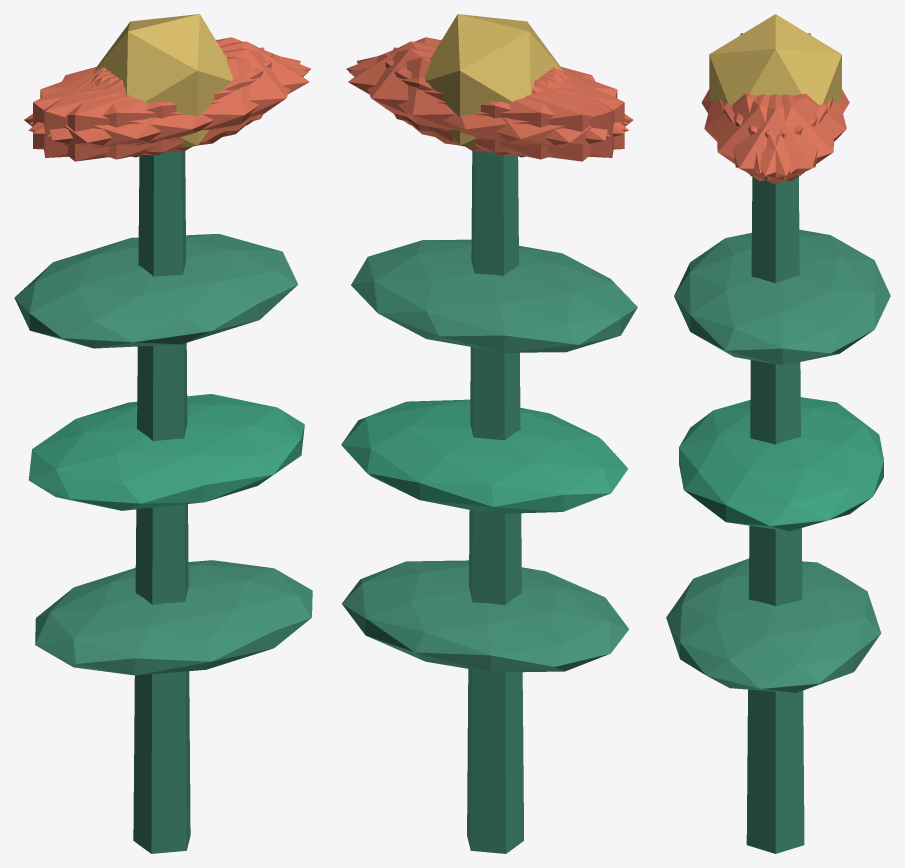
File: spathodea-campanulata.glb
The picture shows the model from 3 angles, left to right: view 1: azimuth 30°, elevation 25°; view 2: azimuth 150°, elevation 25°; view 3: azimuth 270°, elevation 25°; orthographic projection.
Parts seen in each view (by area): view 1: stem, leaf2, leaf0, leaf1, center, petal1, petal6, petal2, petal5, petal7, petal0, petal4 (+2 smaller); view 2: stem, leaf2, leaf1, leaf0, center, petal8, petal3, petal7, petal4, petal2, petal0, petal5 (+2 smaller); view 3: stem, leaf2, leaf0, leaf1, center, petal0, petal4, petal5, petal1, petal8.
Part boxes in pixels (x1=…): stem: x1=133, y1=151, x2=190, y2=853; leaf2: x1=14, y1=233, x2=298, y2=348; leaf0: x1=35, y1=560, x2=312, y2=675; leaf1: x1=28, y1=394, x2=304, y2=510; center: x1=95, y1=14, x2=232, y2=148; petal1: x1=28, y1=56, x2=308, y2=159; petal6: x1=24, y1=69, x2=226, y2=161; petal2: x1=43, y1=47, x2=264, y2=157; petal5: x1=47, y1=48, x2=300, y2=152; petal7: x1=33, y1=53, x2=272, y2=155; petal0: x1=94, y1=41, x2=309, y2=142; petal4: x1=29, y1=37, x2=311, y2=133; stem: x1=467, y1=151, x2=523, y2=853; leaf2: x1=351, y1=239, x2=637, y2=352; leaf1: x1=341, y1=399, x2=628, y2=513; leaf0: x1=342, y1=560, x2=628, y2=672; center: x1=424, y1=14, x2=562, y2=148; petal8: x1=348, y1=56, x2=628, y2=159; petal3: x1=430, y1=69, x2=633, y2=161; petal7: x1=393, y1=47, x2=613, y2=157; petal4: x1=356, y1=48, x2=609, y2=152; petal2: x1=385, y1=53, x2=624, y2=155; petal0: x1=348, y1=41, x2=562, y2=142; petal5: x1=346, y1=37, x2=627, y2=133; stem: x1=746, y1=176, x2=804, y2=853; leaf2: x1=674, y1=229, x2=890, y2=365; leaf0: x1=666, y1=558, x2=881, y2=692; leaf1: x1=679, y1=397, x2=883, y2=531; center: x1=709, y1=14, x2=841, y2=104; petal0: x1=718, y1=94, x2=832, y2=184; petal4: x1=723, y1=94, x2=834, y2=181; petal5: x1=717, y1=94, x2=827, y2=181; petal1: x1=704, y1=93, x2=817, y2=173; petal8: x1=733, y1=93, x2=846, y2=173.
Bounding box in the file's own units: 0.1452 × 0.412 × 0.1036.
